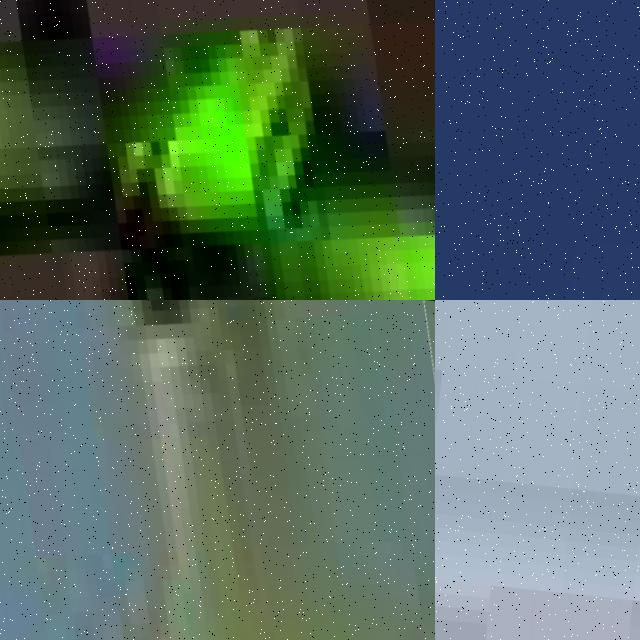drone: (0, 300, 435, 640), (0, 0, 435, 300)
